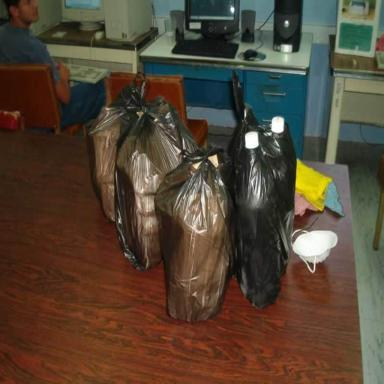plasticbag: (116, 96, 200, 272), (227, 101, 298, 307), (154, 147, 236, 322), (85, 71, 152, 223)
